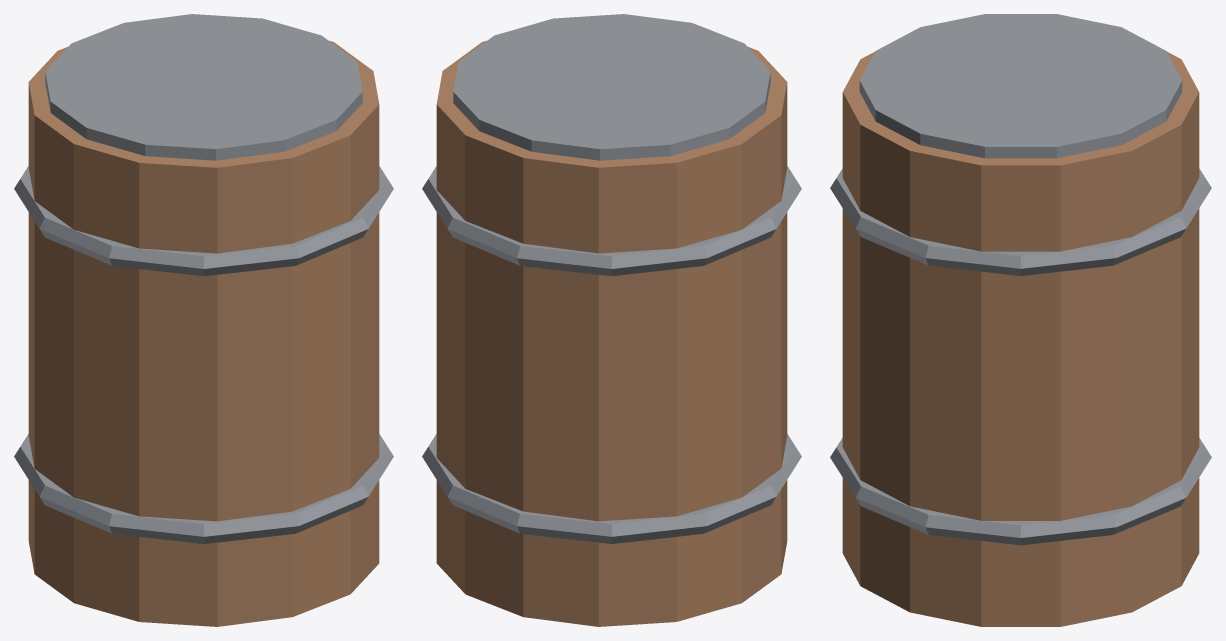
File: prop_barrel.glb
The picture shows the model from 3 angles, left to right: view 1: azimuth 30°, elevation 25°; view 2: azimuth 150°, elevation 25°; view 3: azimuth 270°, elevation 25°; orthographic projection.
Visible parts, largest first — view 1: prop_barrel; view 2: prop_barrel; view 3: prop_barrel.
Part boxes in pixels (x1=…): prop_barrel: x1=14, y1=14, x2=393, y2=626; prop_barrel: x1=422, y1=14, x2=801, y2=626; prop_barrel: x1=830, y1=14, x2=1211, y2=626.
Bounding box in the file's own units: 0.9 × 1.23 × 0.9.
